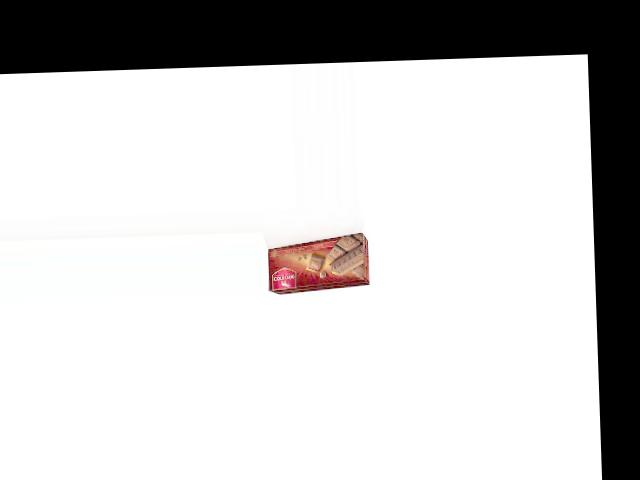chocolate: (266, 231, 368, 295)
